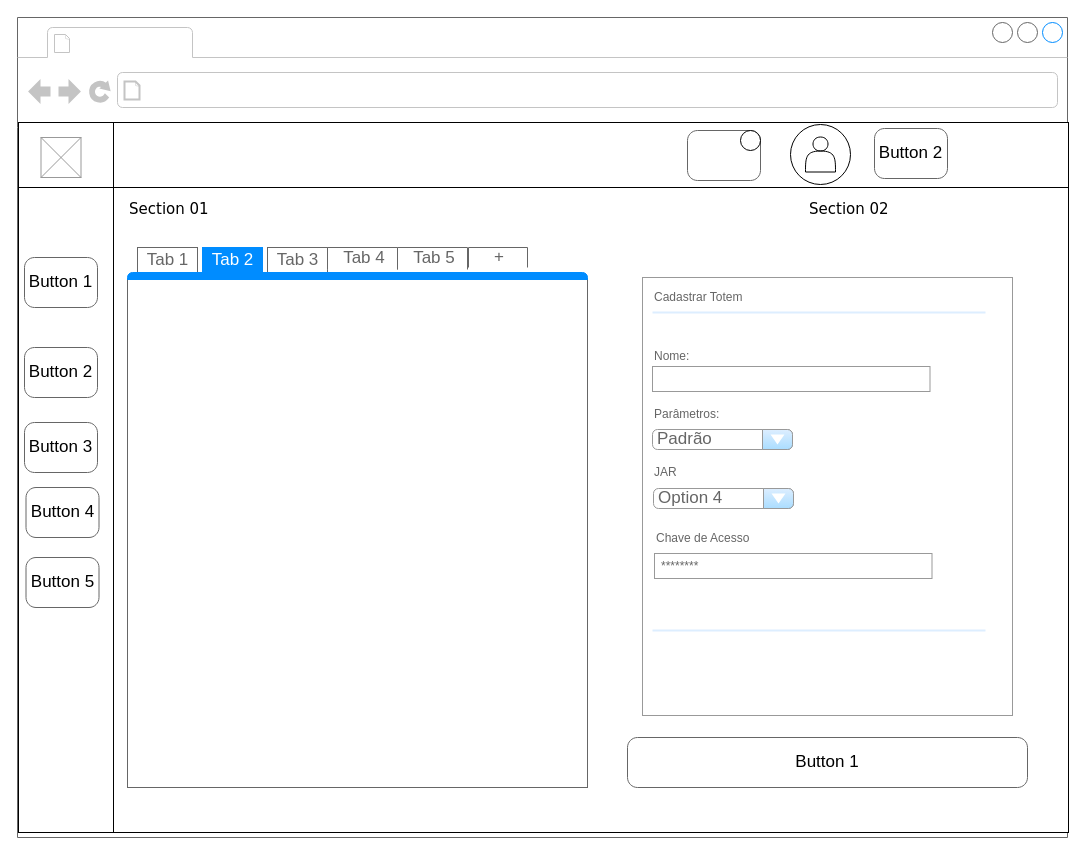
The diagram is 1086 pixels wide and 855 high, and some of its shapes have lost their labels. Each missing label, with the centre of its shape:
"https://www.default.com" belongs at (272,90).
"Page 1" belongs at (132,42).
